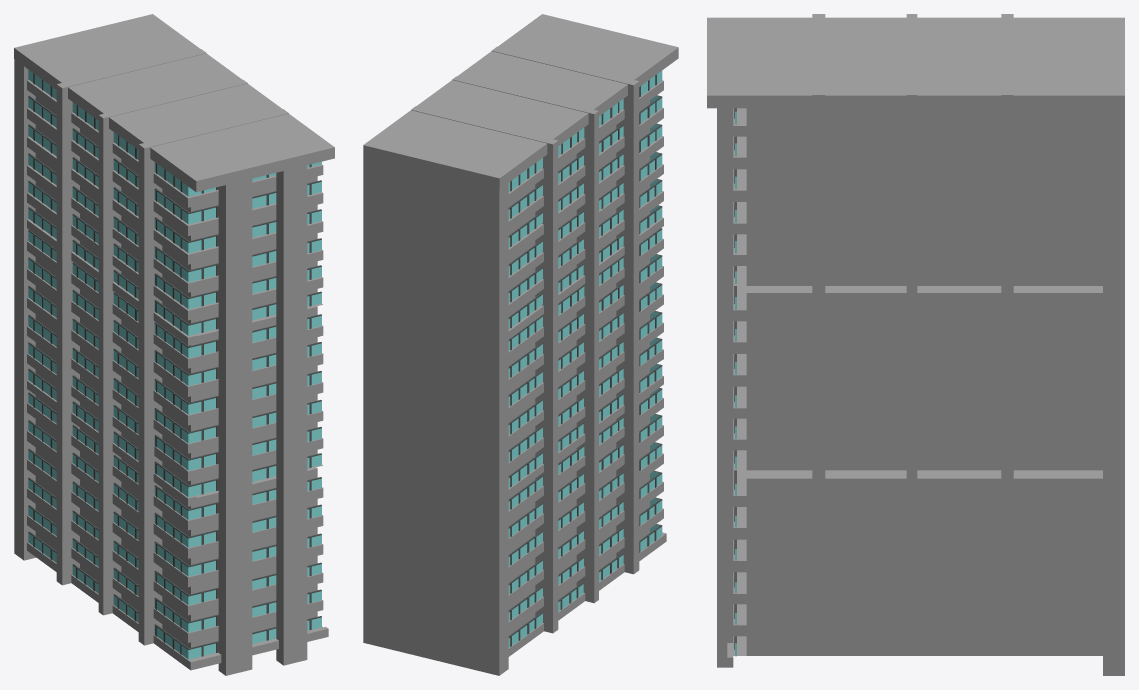
Rendered from bil02.fbx.
The picture shows the model from 3 angles, left to right: view 1: azimuth 30°, elevation 25°; view 2: azimuth 150°, elevation 25°; view 3: azimuth 270°, elevation 25°; orthographic projection. The views are drawn at different scales.
Visible parts, largest first — view 1: polySurface157; view 2: polySurface157; view 3: polySurface157.
Part boxes in pixels (x1,y1,x2,y2): polySurface157: (14, 14, 334, 675); polySurface157: (363, 14, 678, 675); polySurface157: (707, 14, 1124, 675).
Bounding box in the file's own units: 23.03 × 76.39 × 49.39.
